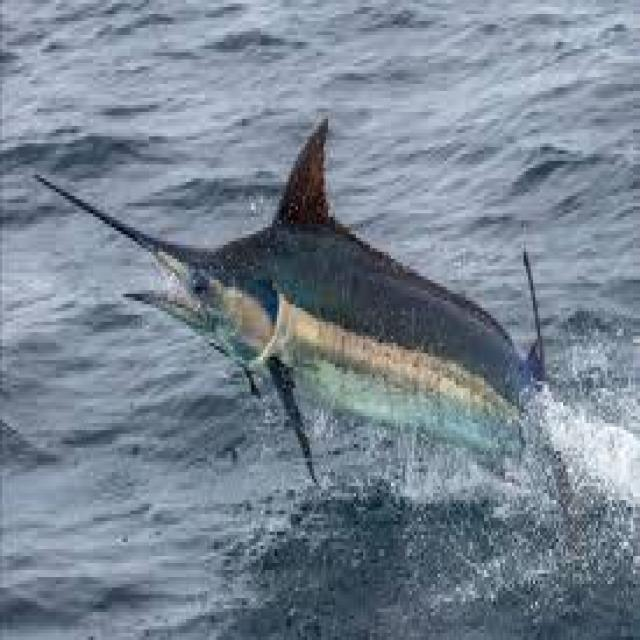Blue Marlin: (30, 116, 545, 490)
